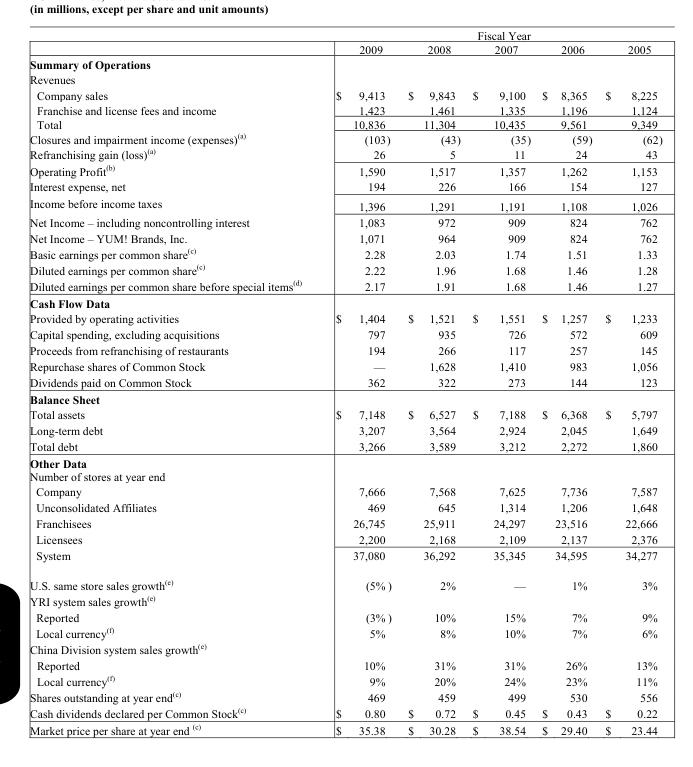table: (29, 28, 661, 736)
table column: (29, 28, 317, 736), (317, 28, 399, 736), (465, 28, 535, 736), (399, 28, 465, 736), (535, 28, 598, 736), (598, 28, 661, 736)
table column header: (29, 28, 661, 56)
table projected row header: (29, 592, 661, 609), (29, 640, 661, 657), (29, 71, 661, 87), (29, 294, 661, 310), (29, 390, 661, 406), (29, 56, 661, 71), (29, 454, 661, 469), (29, 469, 661, 483)
table row: (29, 569, 661, 592), (29, 547, 661, 569), (29, 194, 661, 214), (29, 161, 661, 178), (29, 244, 661, 261), (29, 277, 661, 294), (29, 341, 661, 358), (29, 530, 661, 547), (29, 592, 661, 609), (29, 640, 661, 657), (29, 71, 661, 87), (29, 145, 661, 161), (29, 178, 661, 194), (29, 214, 661, 230), (29, 261, 661, 277), (29, 294, 661, 310), (29, 325, 661, 341), (29, 358, 661, 374), (29, 374, 661, 390), (29, 390, 661, 406), (29, 406, 661, 422), (29, 422, 661, 438), (29, 438, 661, 454), (29, 498, 661, 514), (29, 514, 661, 530), (29, 624, 661, 640), (29, 672, 661, 688), (29, 688, 661, 704), (29, 704, 661, 720), (29, 720, 661, 736), (29, 56, 661, 71), (29, 87, 661, 102), (29, 102, 661, 117), (29, 130, 661, 145), (29, 310, 661, 325), (29, 454, 661, 469), (29, 483, 661, 498), (29, 609, 661, 624), (29, 657, 661, 672), (29, 28, 661, 42), (29, 42, 661, 56), (29, 230, 661, 244), (29, 469, 661, 483), (29, 117, 661, 130)
table spanning cell: (317, 28, 661, 42)
